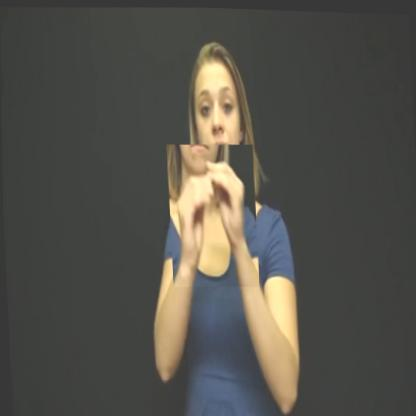Fix: (166, 141, 259, 288)
